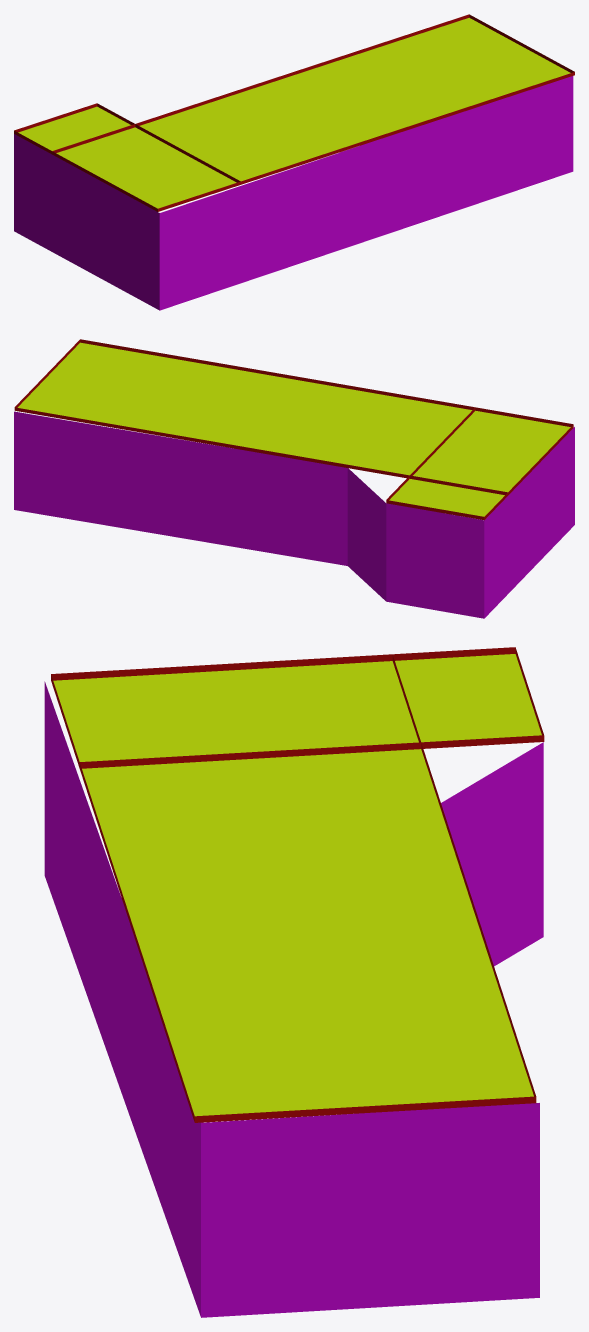
The model's file is niv_56.glb.
3 renders of one model, top to bottom at view 1: azimuth 30°, elevation 25°; view 2: azimuth 150°, elevation 25°; view 3: azimuth 270°, elevation 25°, orthographic. The views are drawn at different scales.
Parts seen in each view (by area): view 1: niv_56; view 2: niv_56; view 3: niv_56.
Boxes of the visible parts, x1=… form: niv_56: x1=14, y1=14, x2=574, y2=310; niv_56: x1=14, y1=339, x2=574, y2=618; niv_56: x1=44, y1=647, x2=544, y2=1317.
Bounding box in the file's own units: 52.35 × 10.5 × 23.55.
